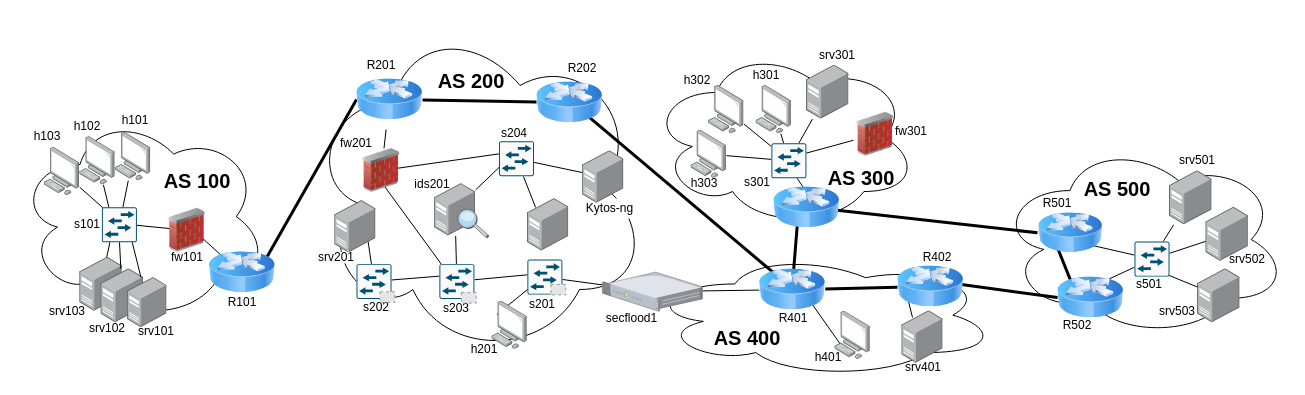
This 1305x395 diagram has some shape labels left out. Grey dashed boxes stand in for pictures. The centre of each missing label's shape, as x and y in pixels:
"MISP" belongs at (x=570, y=247).
"R301" belongs at (x=806, y=207).
